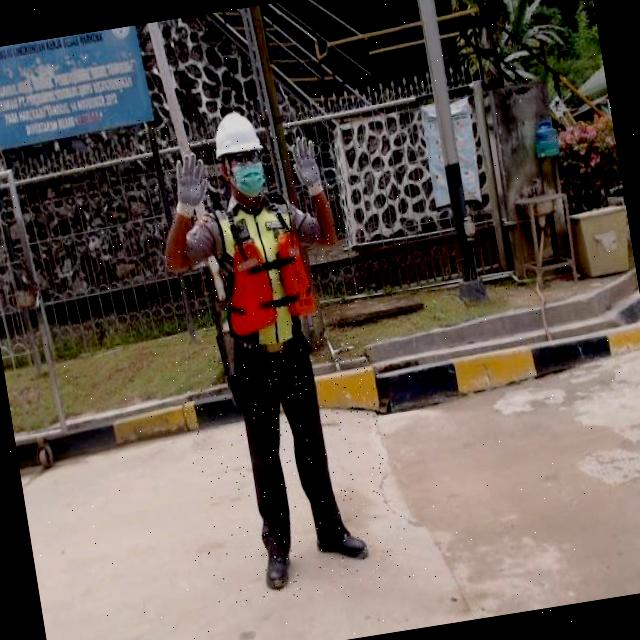boots: (314, 518, 374, 569), (260, 536, 299, 596)
helmet: (211, 110, 265, 161)
vest: (208, 192, 324, 360)
